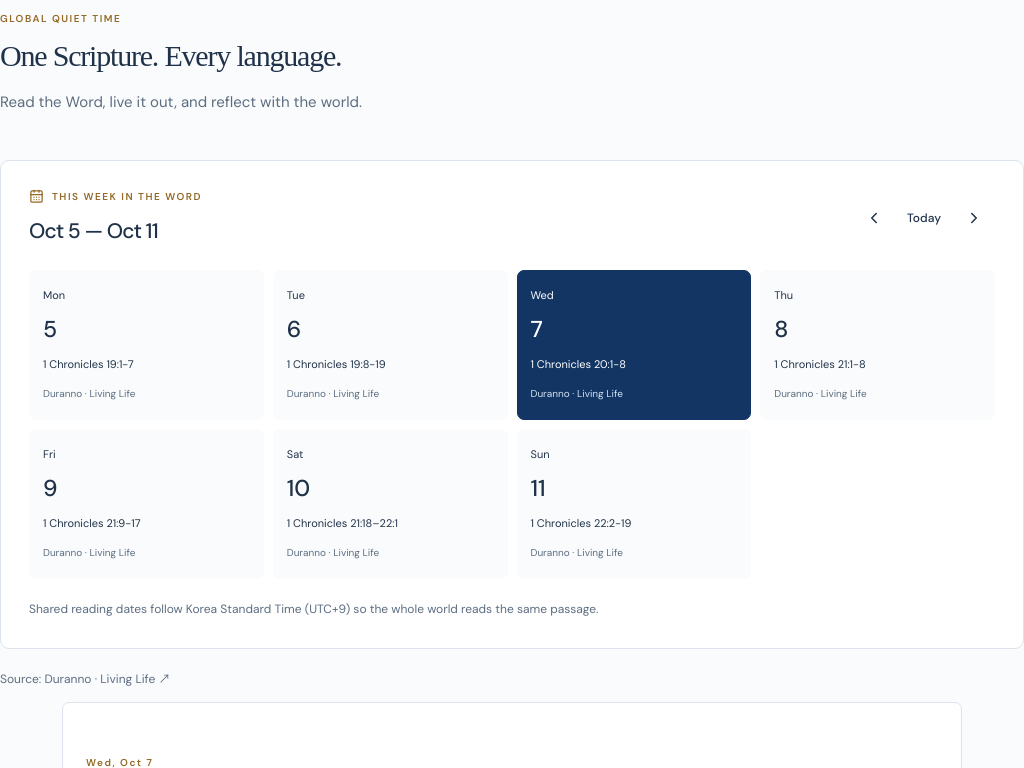
updates the URL and reading together when choosing Next week
Click the button named "Next week". click: click(974, 218)
box: [953,196,995,240]
(page scrolled)
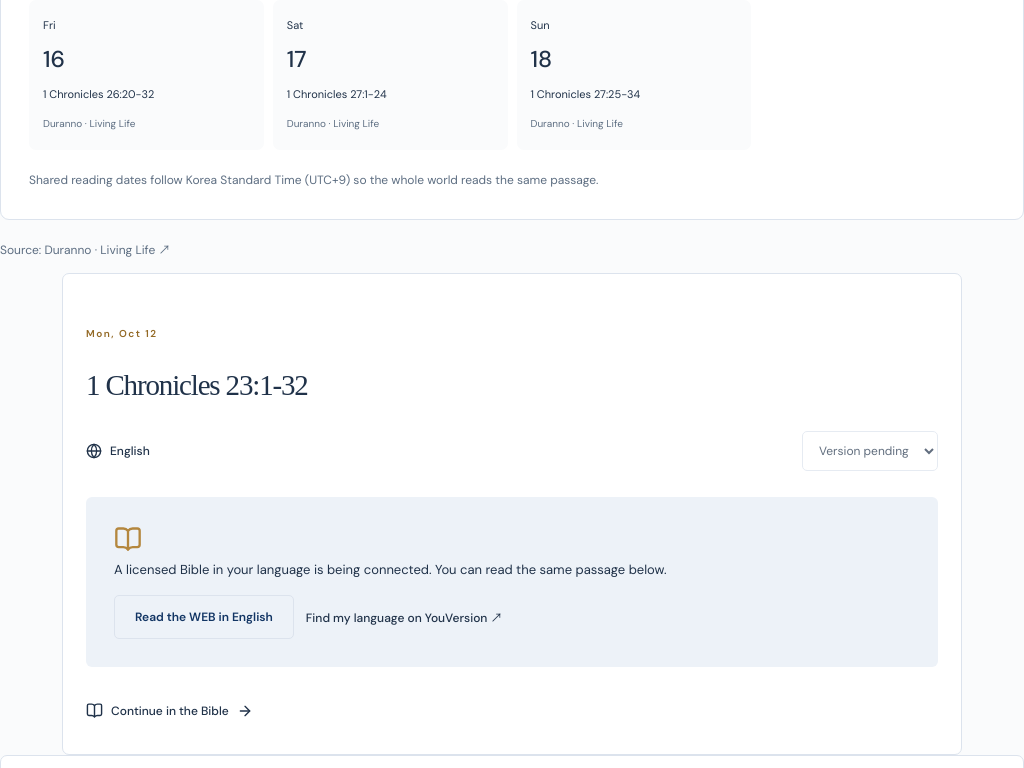
Now the heading "1 Chronicles 23:1-32" is shown, box [86,369,308,401]
